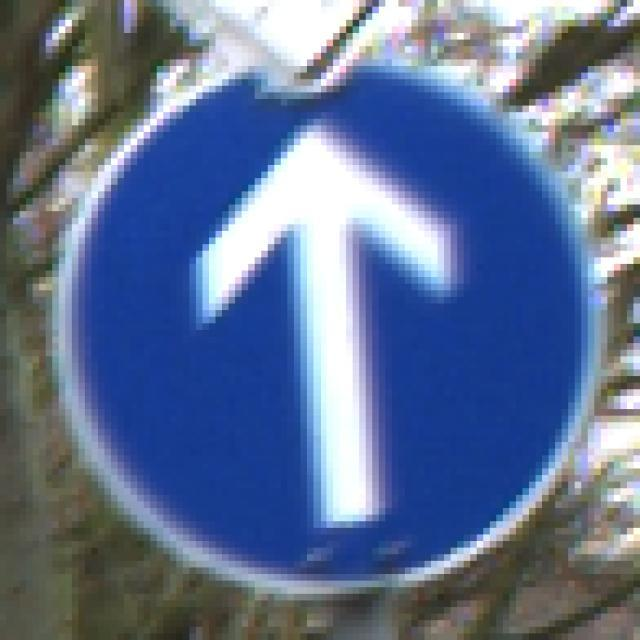compulsary ahead: (71, 59, 592, 593)
